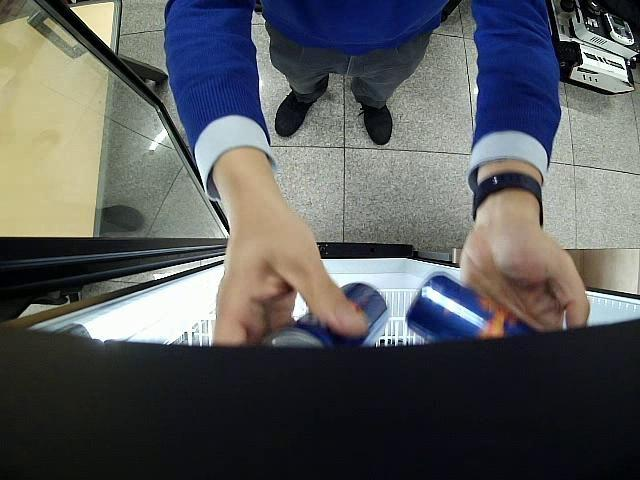16_hot6: (406, 271, 540, 343), (262, 282, 388, 347)
